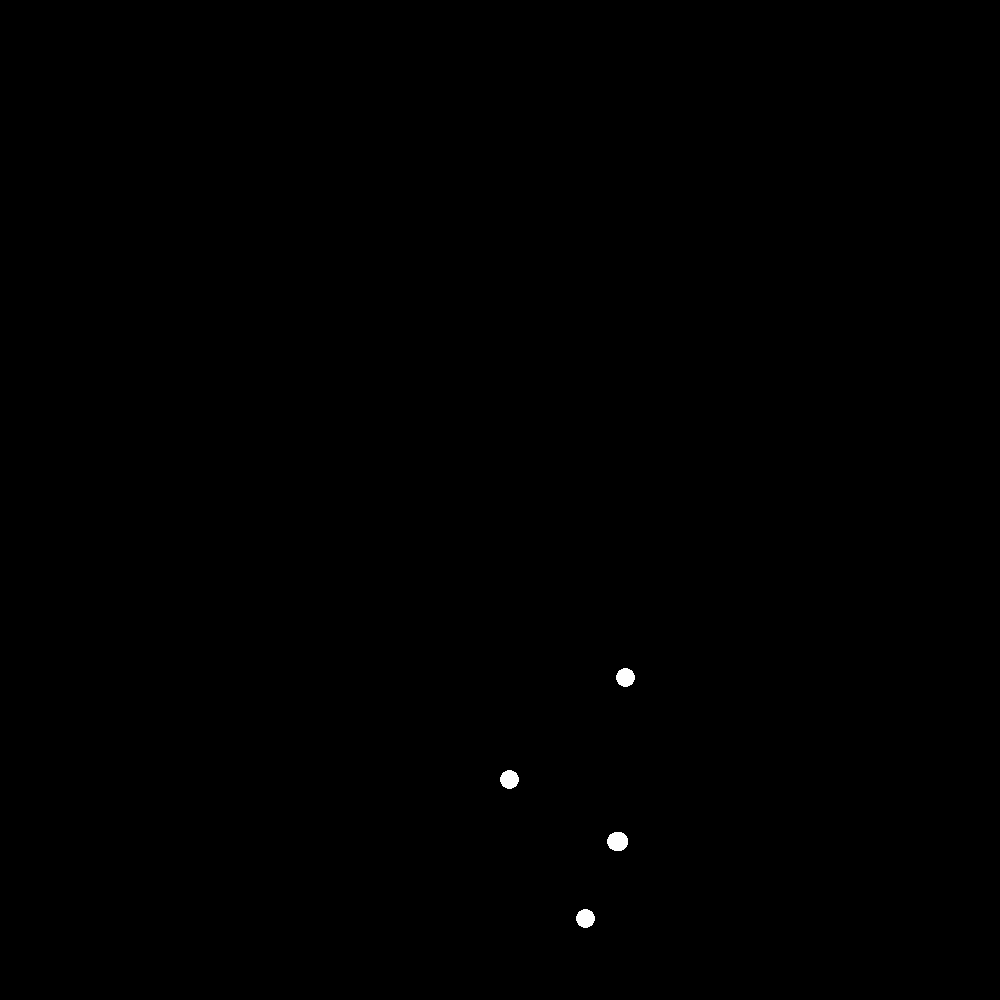illegal: (555, 670, 627, 715), (607, 831, 662, 853), (505, 769, 541, 793), (575, 908, 611, 926)
